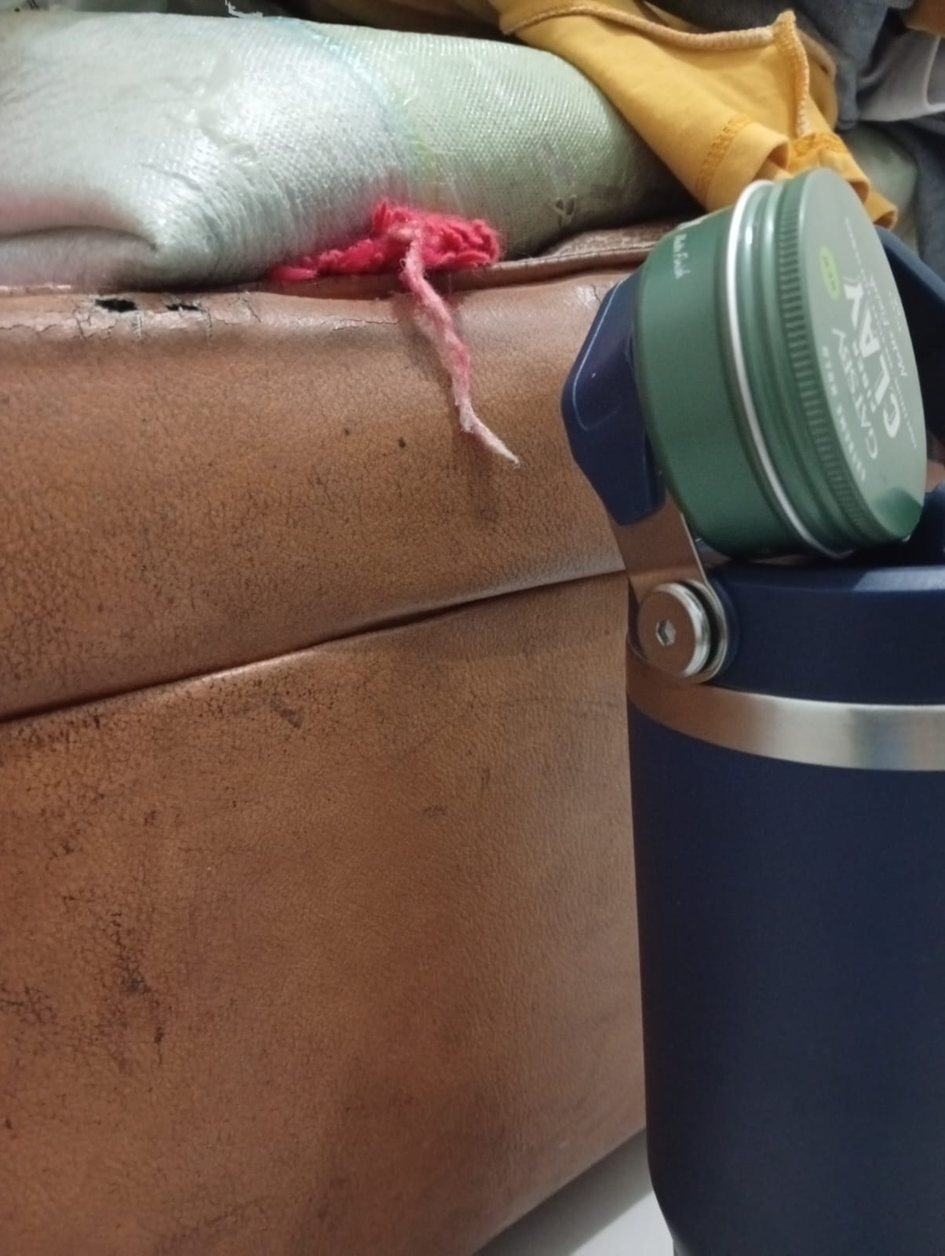Tupperware: (556, 221, 945, 1251), (592, 155, 937, 569)
